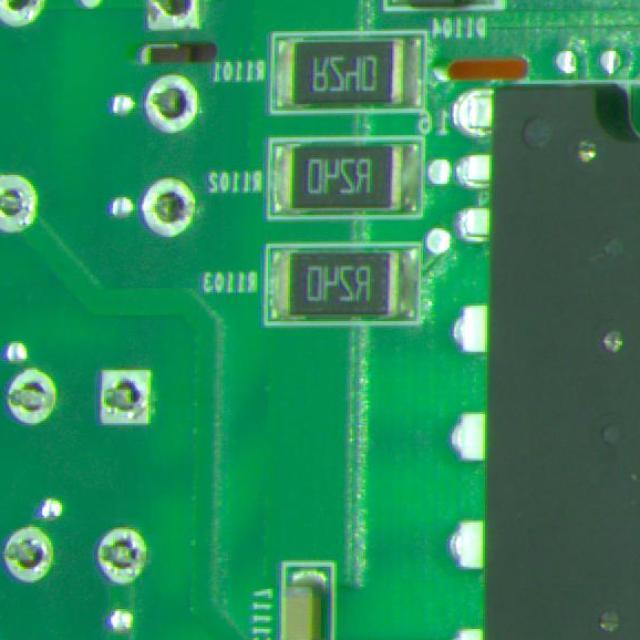Insufficient solder: (92, 360, 158, 438), (90, 519, 156, 588), (140, 172, 198, 244), (143, 68, 204, 136), (1, 359, 63, 423), (0, 166, 42, 237), (2, 530, 57, 582), (142, 0, 208, 39), (0, 0, 52, 34)
